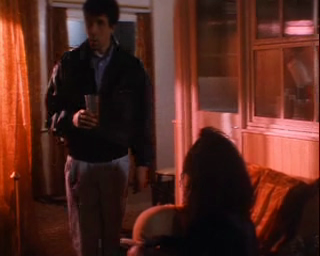face: (84, 15, 108, 51)
mls: (1, 1, 320, 256)
person: (45, 1, 156, 256)
